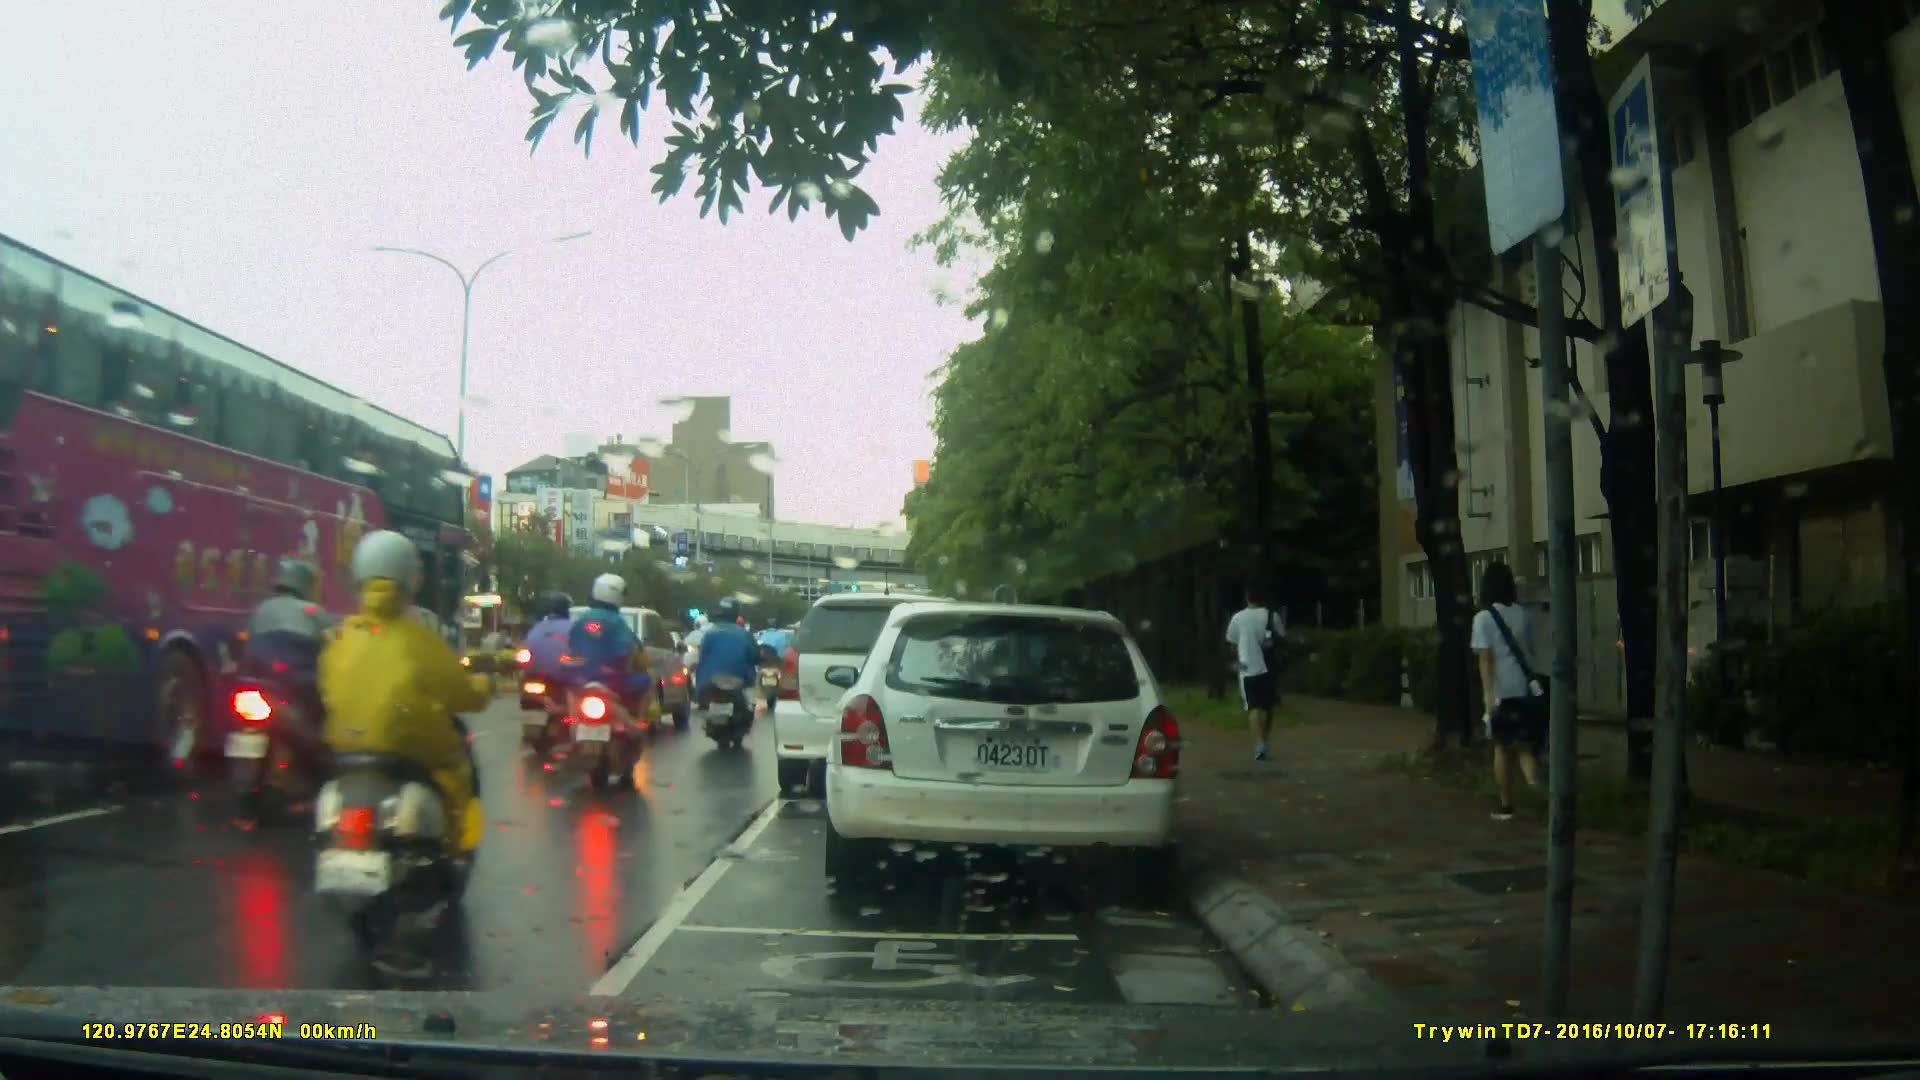pedestrian: (1457, 562, 1554, 837), (1212, 575, 1289, 767)
rider: (316, 520, 492, 955), (219, 553, 356, 829), (555, 570, 654, 806), (524, 591, 602, 765), (695, 598, 759, 757), (715, 611, 766, 715), (754, 614, 790, 693)
vehicle: (1, 259, 499, 782), (835, 594, 1194, 898), (776, 590, 1026, 784), (521, 604, 700, 746)
